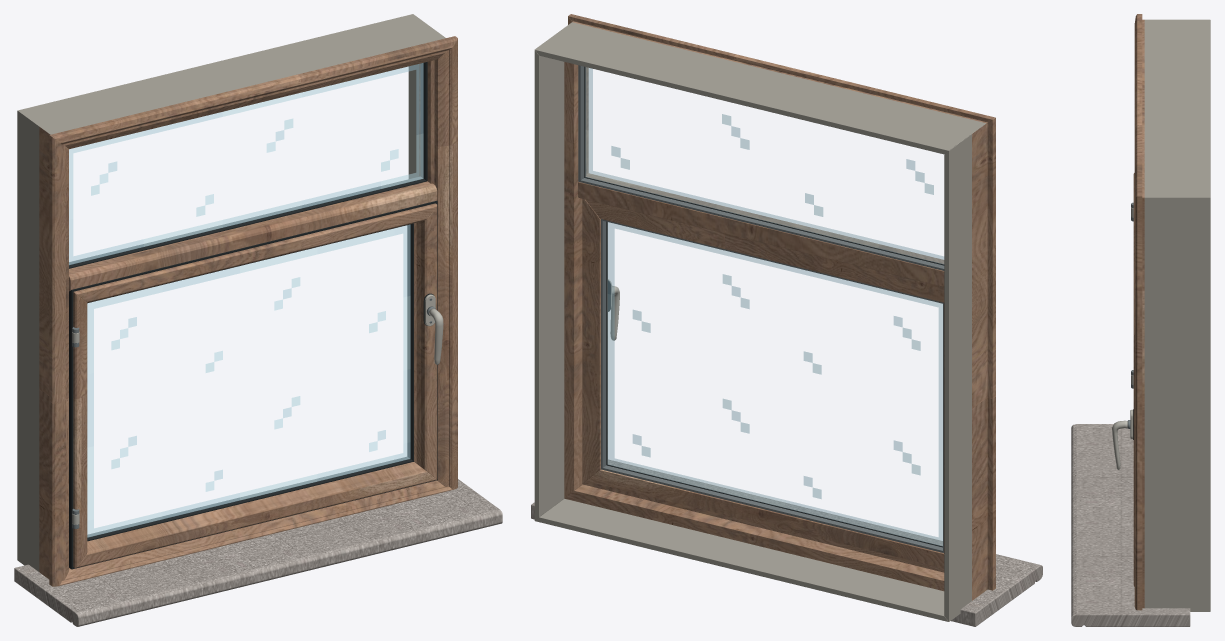
Rendered from casement.glb.
3 renders of one model, left to right at view 1: azimuth 30°, elevation 25°; view 2: azimuth 150°, elevation 25°; view 3: azimuth 270°, elevation 25°, orthographic. The views are drawn at different scales.
Parts seen in each view (by area): view 1: Rebated casement; view 2: Rebated casement; view 3: Rebated casement.
Boxes of the visible parts, left/top/right/bottom form: Rebated casement: left=14, top=14, right=502, bottom=626; Rebated casement: left=531, top=14, right=1042, bottom=626; Rebated casement: left=1071, top=14, right=1210, bottom=626.
Size of the model in its own units: 0.942 by 0.982 by 0.29.
Materials: 7 (3 with a texture image).
